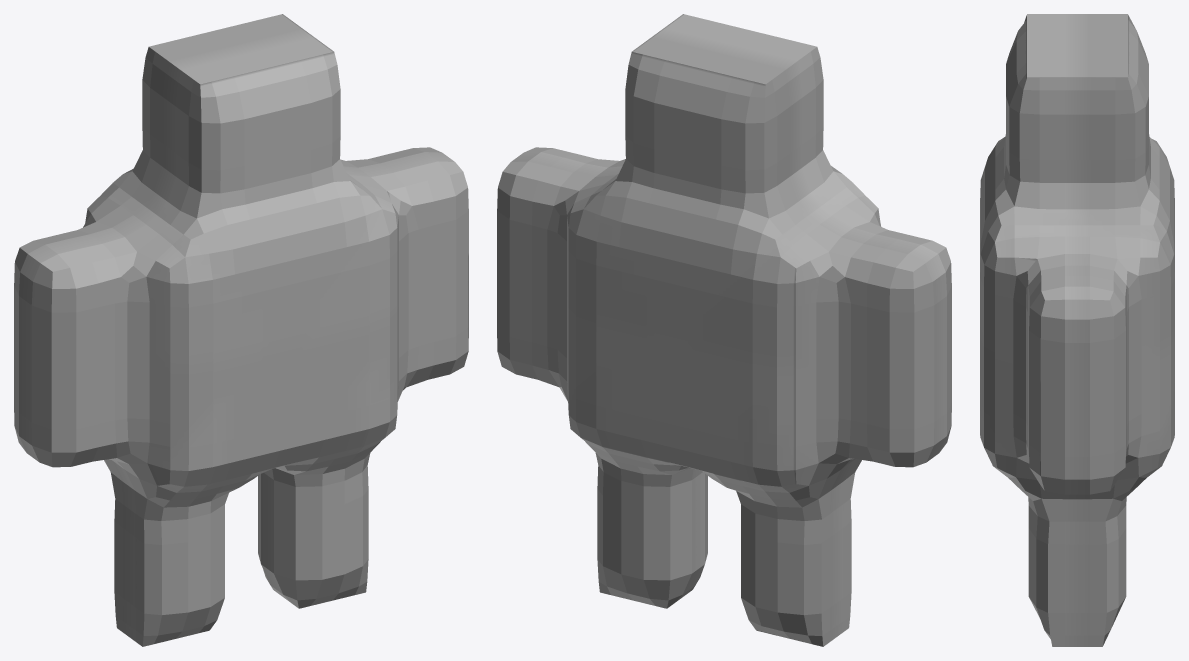
The model's file is darkGuardian.glb.
The picture shows the model from 3 angles, left to right: view 1: azimuth 30°, elevation 25°; view 2: azimuth 150°, elevation 25°; view 3: azimuth 270°, elevation 25°; orthographic projection. The views are drawn at different scales.
Parts seen in each view (by area): view 1: geometry_0; view 2: geometry_0; view 3: geometry_0.
Part boxes in pixels (box(x1,y1,x2,y2)): geometry_0: box(14, 14, 468, 646); geometry_0: box(497, 14, 951, 646); geometry_0: box(980, 14, 1174, 646).
Bounding box in the file's own units: 0.8065 × 1 × 0.3226.
1 material, 1 textured.
